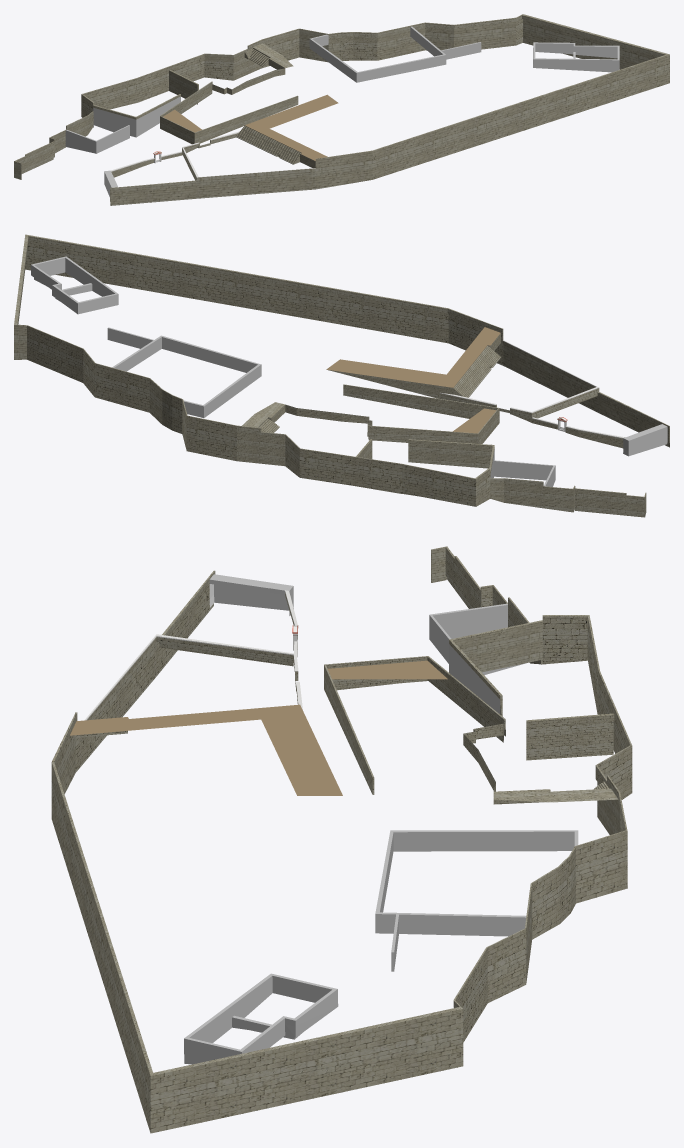
Rendered from acropoliswalls.fbx.
3 views of the same model, one above another, from view 1: azimuth 30°, elevation 25°; view 2: azimuth 150°, elevation 25°; view 3: azimuth 270°, elevation 25° (orthographic). The views are drawn at different scales.
Parts seen in each view (by area): view 1: Group1; view 2: Group1; view 3: Group1.
Part boxes in pixels (x1,y1,x2,y2): Group1: (14,14,669,205); Group1: (14,234,669,517); Group1: (51,546,632,1133).
Bounding box in the file's own units: 299869 × 17552 × 129562.
